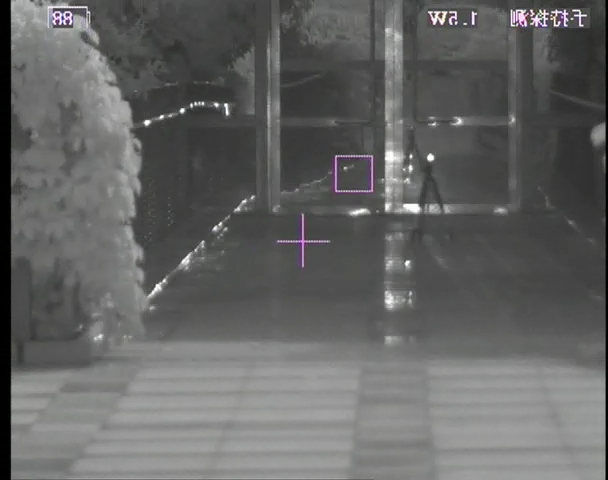my: (425, 152, 436, 163)
